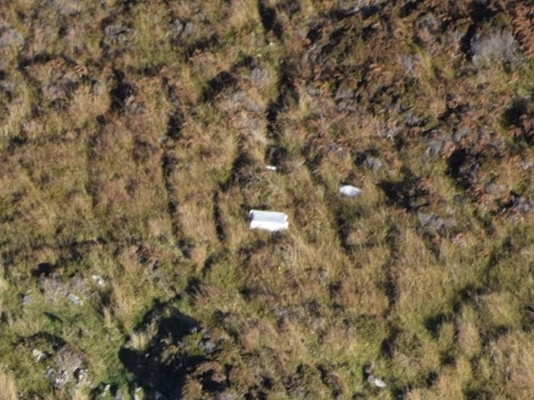scattered_barrel: (241, 151, 372, 242)
